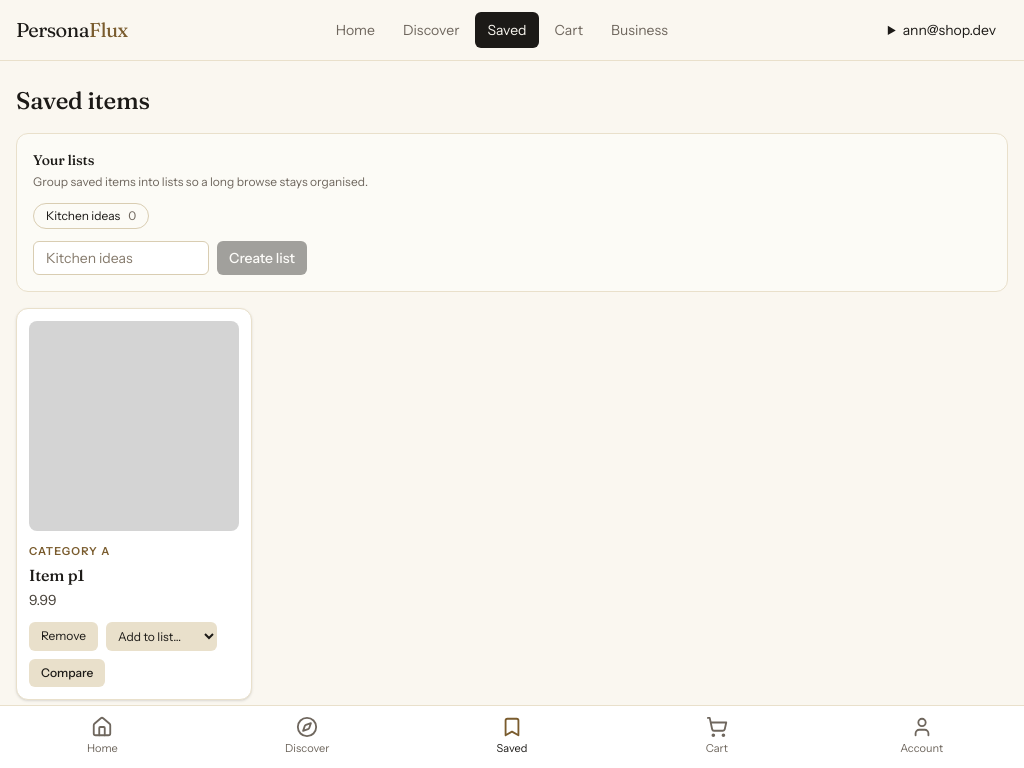
Test: curated lists › adds a saved product to a list and moves that list's count
Select "Kitchen ideas" in the dropdown named "Add Item p1 to a list" at {"x": 162, "y": 636}, box [106,622,217,650]
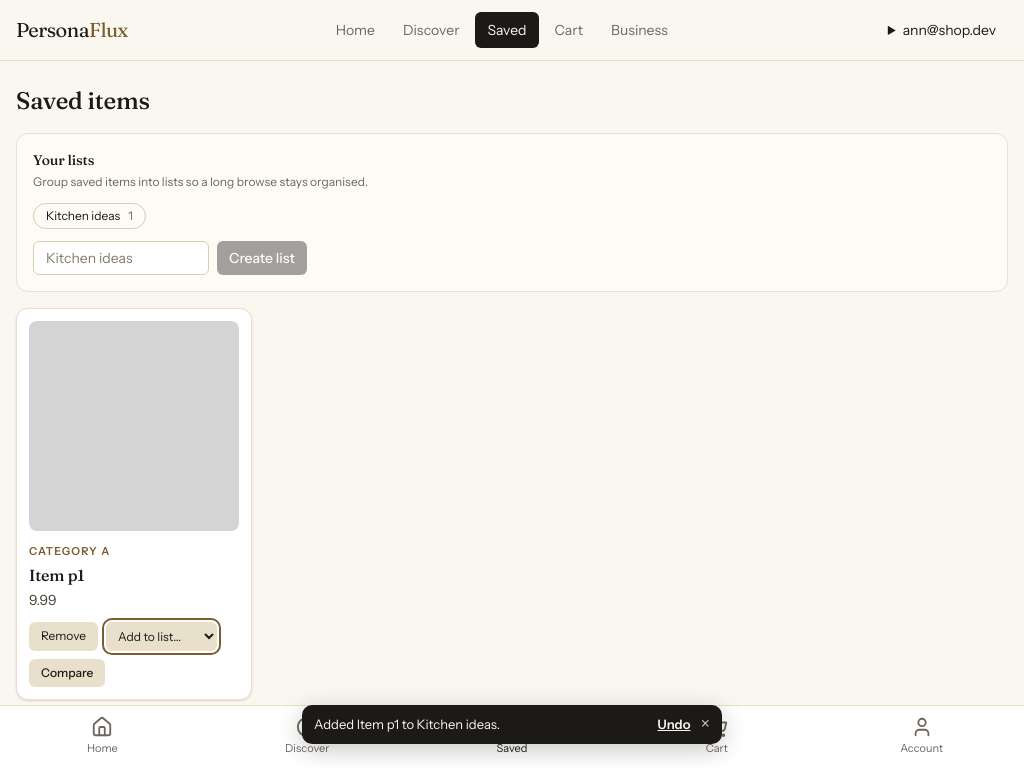
Expected: the link "Kitchen ideas 1" is shown, [33,203,146,229]
Expected: the text "Added Item p1 to Kitchen ideas." is shown, [314,716,500,732]
